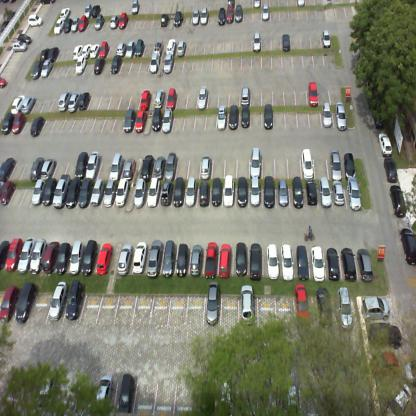car: (368, 321, 402, 349), (61, 289, 86, 326), (383, 383, 412, 414), (93, 373, 113, 415), (46, 290, 69, 326), (359, 295, 391, 320), (16, 233, 36, 273), (398, 222, 416, 266), (370, 352, 399, 379), (316, 283, 333, 327), (118, 371, 135, 415), (354, 240, 374, 277), (338, 287, 354, 332), (13, 289, 36, 320), (0, 285, 18, 324), (145, 240, 165, 275), (324, 242, 342, 280), (202, 293, 221, 329), (35, 375, 54, 410), (41, 239, 60, 273), (68, 240, 87, 274), (293, 283, 310, 321), (5, 236, 22, 274), (52, 173, 70, 208), (76, 176, 94, 210), (144, 177, 162, 211), (293, 243, 311, 277), (390, 182, 407, 218), (30, 236, 47, 272), (53, 241, 72, 273), (82, 240, 100, 273), (340, 241, 356, 278), (88, 174, 105, 208), (278, 244, 295, 278), (310, 242, 326, 278), (160, 241, 177, 274), (174, 243, 191, 276), (203, 241, 218, 278), (170, 176, 186, 210), (188, 242, 204, 276), (263, 243, 279, 277), (344, 176, 362, 206), (234, 241, 249, 277), (220, 378, 234, 416), (65, 176, 81, 209), (113, 177, 129, 210), (156, 178, 172, 211), (132, 240, 148, 273), (217, 242, 233, 275), (40, 176, 56, 209), (240, 284, 253, 324), (100, 178, 116, 210), (96, 244, 113, 274), (248, 240, 263, 274), (316, 177, 332, 208), (30, 174, 45, 207), (118, 242, 134, 272), (286, 381, 300, 415), (133, 177, 146, 212), (73, 154, 91, 179), (341, 149, 357, 177), (84, 153, 101, 179), (330, 179, 345, 208), (383, 155, 398, 184), (197, 179, 211, 210), (288, 180, 304, 207), (199, 381, 212, 414), (122, 106, 137, 134), (301, 148, 315, 178), (235, 179, 249, 209), (262, 178, 276, 208), (276, 179, 290, 209), (0, 237, 12, 271), (328, 148, 342, 177), (209, 180, 223, 209), (304, 178, 317, 209), (122, 155, 138, 180), (332, 101, 347, 127), (109, 155, 125, 179), (248, 150, 262, 177), (378, 129, 392, 156), (1, 180, 16, 205), (184, 179, 196, 210), (133, 108, 147, 134), (149, 154, 163, 180), (30, 154, 43, 182), (138, 155, 153, 179), (249, 179, 261, 209), (41, 156, 56, 180), (150, 106, 163, 133), (164, 152, 178, 177), (199, 152, 213, 177), (224, 179, 236, 208), (56, 92, 71, 115), (29, 114, 44, 137), (11, 112, 26, 135), (1, 157, 15, 180), (165, 85, 177, 111), (162, 107, 174, 132), (238, 105, 250, 130), (321, 104, 334, 126), (307, 80, 318, 106), (197, 84, 208, 110), (1, 111, 14, 133), (30, 58, 43, 80), (262, 105, 274, 128), (148, 51, 159, 76), (67, 92, 80, 113), (216, 107, 227, 131), (153, 88, 165, 110), (139, 88, 151, 110), (11, 94, 24, 114), (252, 29, 262, 54), (228, 106, 239, 128), (163, 52, 174, 74), (110, 54, 122, 74), (27, 14, 43, 29), (22, 95, 35, 113), (240, 84, 250, 107), (78, 91, 90, 110), (10, 40, 26, 54), (281, 31, 291, 53), (98, 40, 110, 58), (41, 58, 53, 76), (321, 27, 331, 48), (75, 57, 86, 76), (135, 38, 145, 58), (175, 39, 186, 57), (72, 43, 83, 61), (199, 4, 208, 26), (217, 5, 226, 27), (47, 45, 60, 60), (93, 58, 105, 74), (233, 2, 242, 23), (53, 19, 64, 36), (166, 37, 176, 55), (125, 39, 134, 59), (17, 32, 32, 44), (118, 11, 128, 29), (173, 10, 182, 29), (63, 17, 73, 34), (94, 14, 104, 31), (191, 7, 200, 25), (82, 41, 92, 57), (262, 2, 270, 22), (90, 43, 100, 58), (77, 15, 87, 30), (109, 14, 119, 29), (152, 39, 164, 51), (59, 7, 70, 20), (116, 41, 126, 55), (71, 16, 80, 31), (226, 6, 234, 22), (91, 4, 100, 18), (40, 46, 50, 58), (160, 13, 170, 25), (132, 0, 139, 17), (84, 4, 92, 18), (0, 76, 9, 88), (226, 0, 236, 8), (40, 0, 56, 5), (252, 0, 260, 8), (296, 0, 306, 6)
